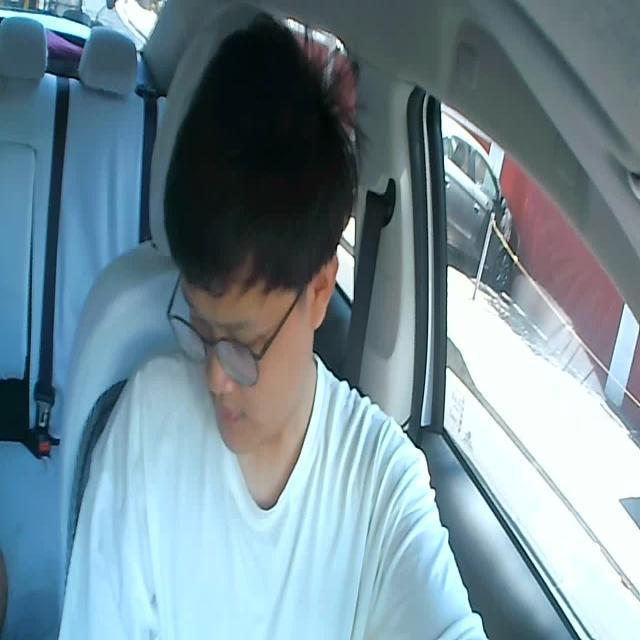Eye-Close: (180, 301, 217, 342), (230, 319, 267, 359)
Inattentive: (162, 26, 362, 459)
Normal: (213, 403, 250, 431)
